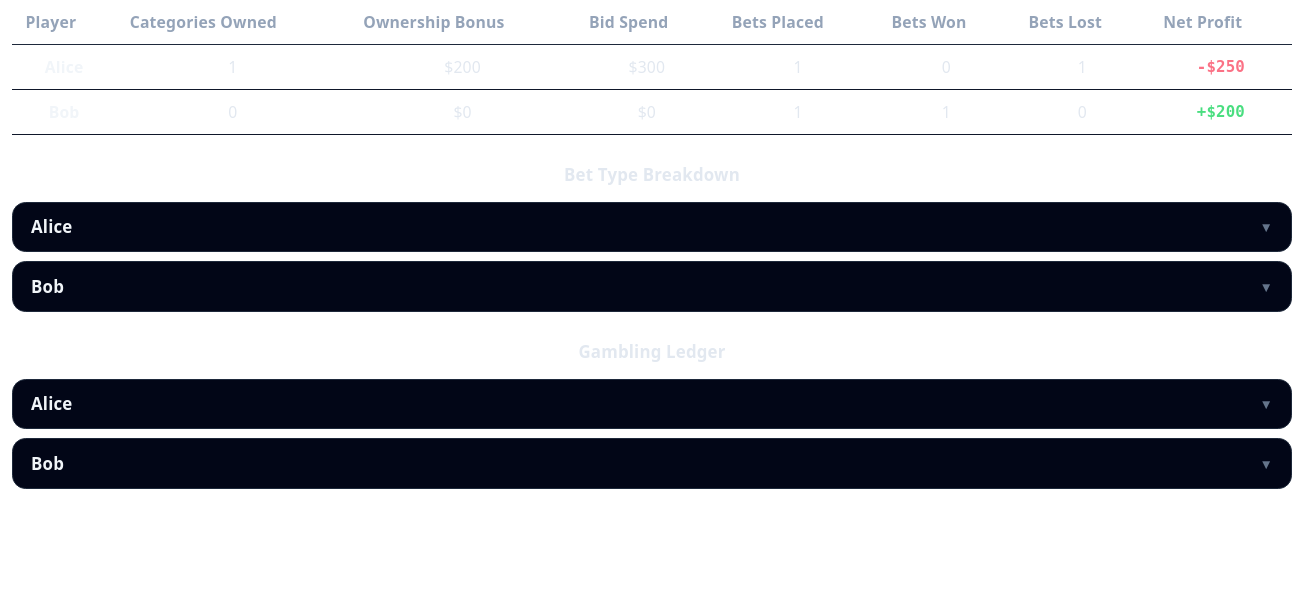
Test: GamblingAnalytics › renders correctly with populated ledger › renders one bet type breakdown section per player with only that player rows
Step 1. Click the button "Bob ▼" below "Bet Type Breakdown" → (47, 286), box [13,262,1291,311]
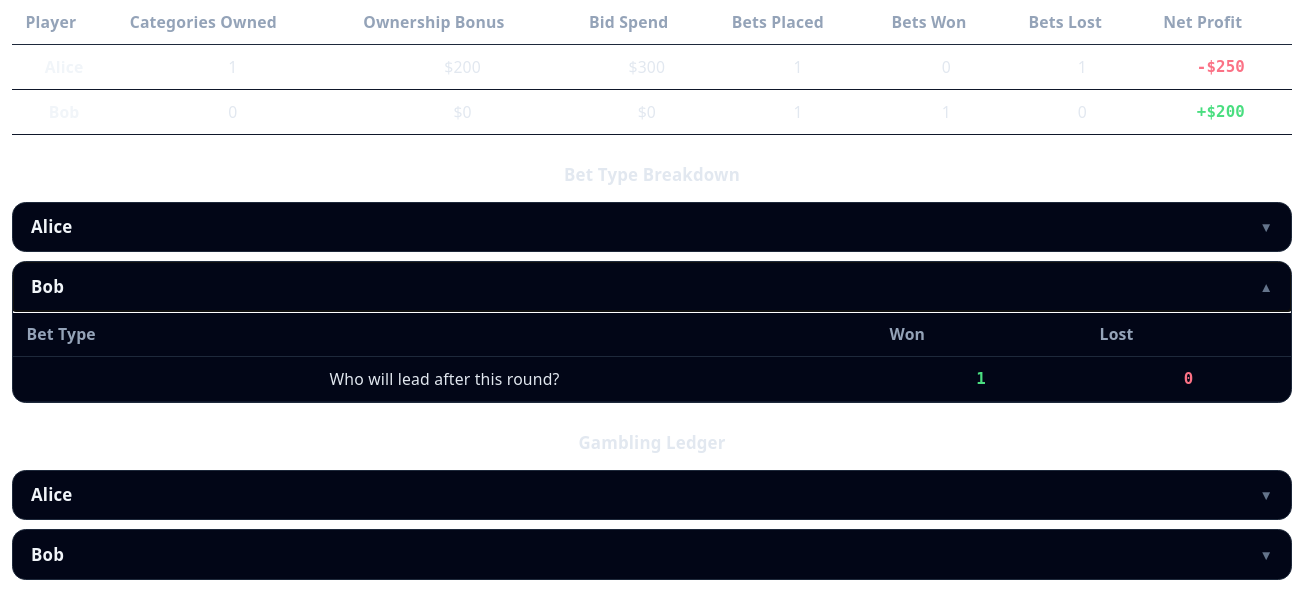
Expected: the cell "1" in the row of "Who will lead after this round?" is shown, [976,369,986,388]
Expected: the cell "0" in the row of "Who will lead after this round?" is shown, [1184,369,1193,388]
